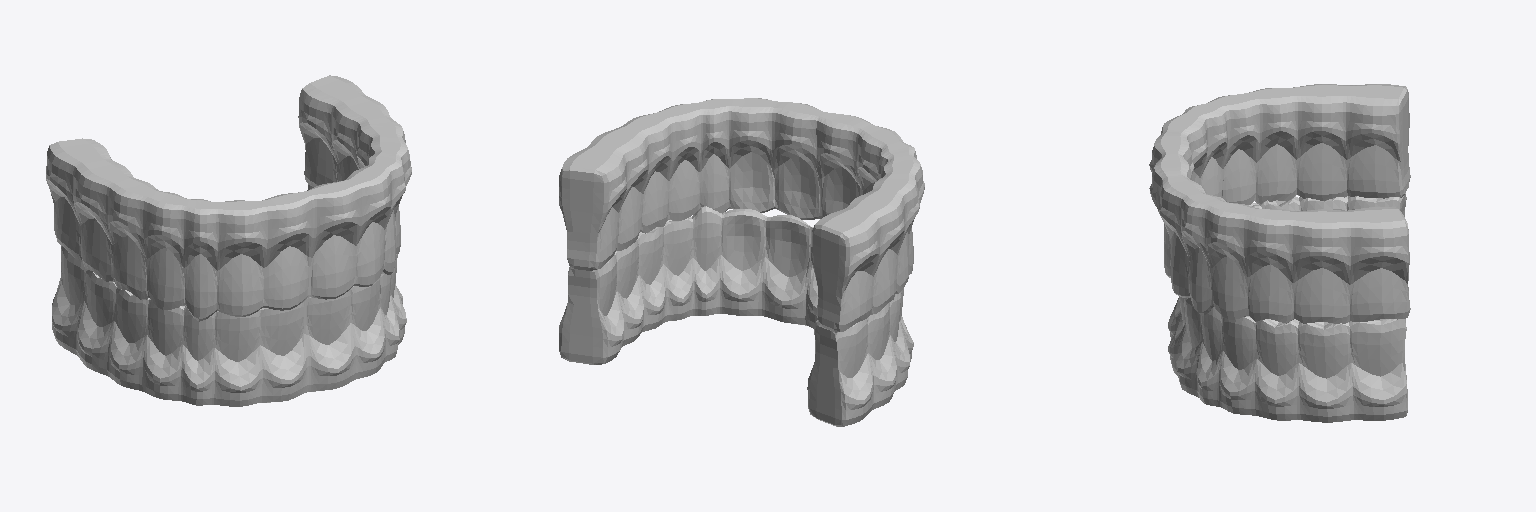
File: TeethOBJ.obj
The picture shows the model from 3 angles: view 1: azimuth 30°, elevation 25°; view 2: azimuth 150°, elevation 25°; view 3: azimuth 270°, elevation 25°; orthographic projection.
Visible parts, largest first — view 1: Controller TeethUpper, TeethLower Controller; view 2: Controller TeethUpper, TeethLower Controller; view 3: Controller TeethUpper, TeethLower Controller.
Part boxes in pixels (x1,y1,x2,y2): Controller TeethUpper: (46,75,411,321); TeethLower Controller: (52,185,406,406); Controller TeethUpper: (559,98,924,332); TeethLower Controller: (559,206,913,426); Controller TeethUpper: (1149,84,1410,323); TeethLower Controller: (1168,193,1407,422).
Bounding box in the file's own units: 190 × 121 × 139.